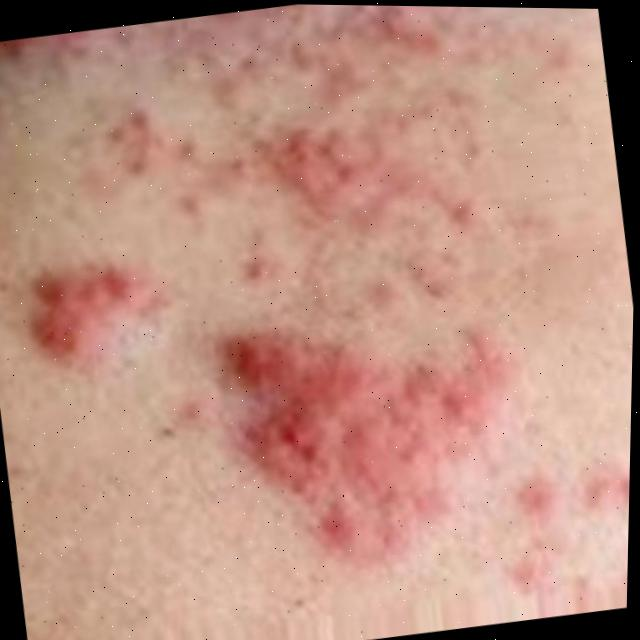Shingles: (0, 0, 555, 604)
